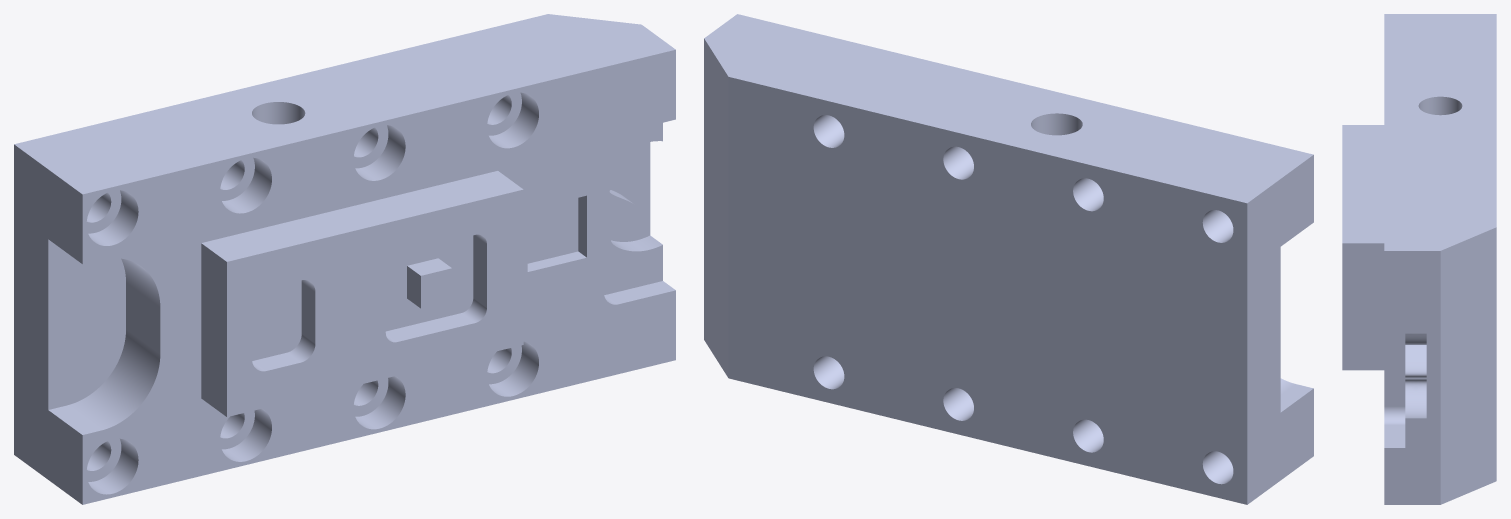
The model's file is featuretype.glb.
3 views of the same model, side by side, from view 1: azimuth 30°, elevation 25°; view 2: azimuth 150°, elevation 25°; view 3: azimuth 270°, elevation 25° (orthographic). The views are drawn at different scales.
Visible parts, largest first — view 1: featuretype; view 2: featuretype; view 3: featuretype.
Part boxes in pixels (left/top/right/bottom): featuretype: left=14, top=14, right=675, bottom=504; featuretype: left=704, top=14, right=1313, bottom=504; featuretype: left=1342, top=14, right=1496, bottom=504.
Bounding box in the file's own units: 0.127 × 0.0635 × 0.0349.
